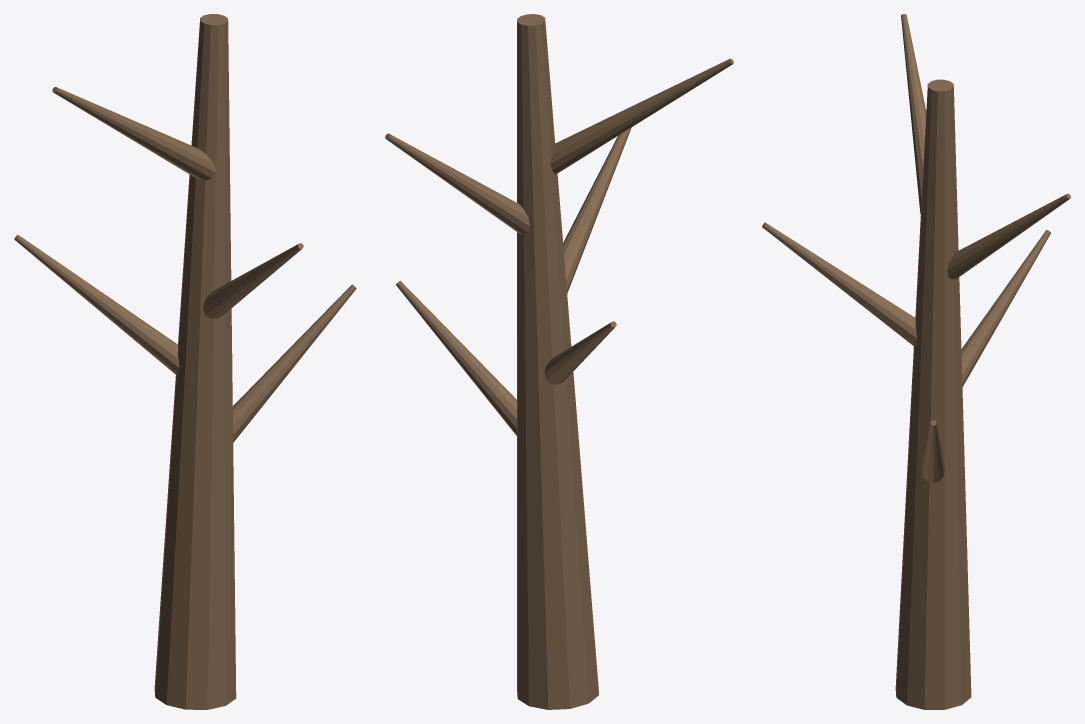
Rendered from tree.glb.
3 renders of one model, left to right at view 1: azimuth 30°, elevation 25°; view 2: azimuth 150°, elevation 25°; view 3: azimuth 270°, elevation 25°, orthographic. The views are drawn at different scales.
Parts seen in each view (by area): view 1: Trunk, Branch.001, Branch.004, Branch, Branch.002; view 2: Trunk, Branch.004, Branch, Branch.003, Branch.002, Branch.001; view 3: Trunk, Branch.002, Branch.001, Branch.003, Branch.004, Branch.
Boxes of the visible parts, box(x1,y1,x2,y2) form: Trunk: box(154, 14, 236, 709); Branch.001: box(14, 235, 179, 374); Branch.004: box(52, 87, 216, 180); Branch: box(232, 284, 356, 442); Branch.002: box(203, 243, 303, 318); Trunk: box(517, 14, 598, 709); Branch.004: box(550, 58, 733, 173); Branch: box(396, 280, 516, 435); Branch.003: box(385, 133, 530, 234); Branch.002: box(563, 127, 631, 293); Branch.001: box(544, 321, 616, 384); Trunk: box(895, 79, 971, 709); Branch.002: box(762, 222, 917, 346); Branch.001: box(961, 230, 1050, 386); Branch.003: box(947, 193, 1070, 279); Branch.004: box(901, 14, 926, 214); Branch: box(921, 420, 945, 482).
Size of the model in its own units: 1.4 by 2.81 by 1.27.
